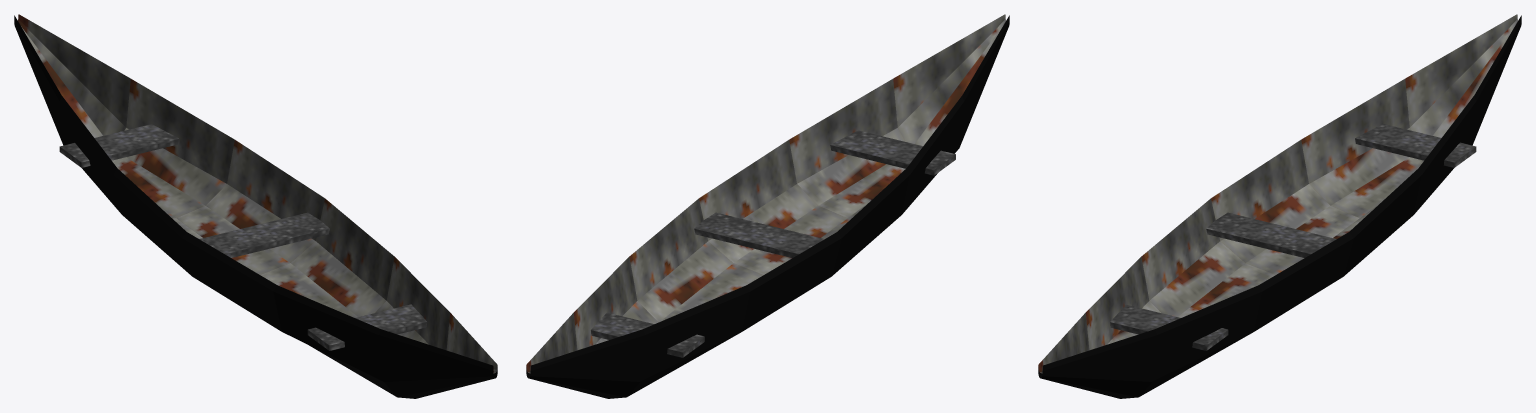
The model's file is SM_canoe_green.fbx.
3 renders of one model, left to right at view 1: azimuth 30°, elevation 25°; view 2: azimuth 150°, elevation 25°; view 3: azimuth 330°, elevation 25°, orthographic.
Visible parts, largest first — view 1: canoe_green; view 2: canoe_green; view 3: canoe_green.
Boxes of the visible parts, box(x1,y1,x2,y2) form: canoe_green: box(14, 14, 497, 398); canoe_green: box(526, 14, 1009, 398); canoe_green: box(1038, 14, 1521, 398).
Bounding box in the file's own units: 0.85 × 0.51 × 4.8.
